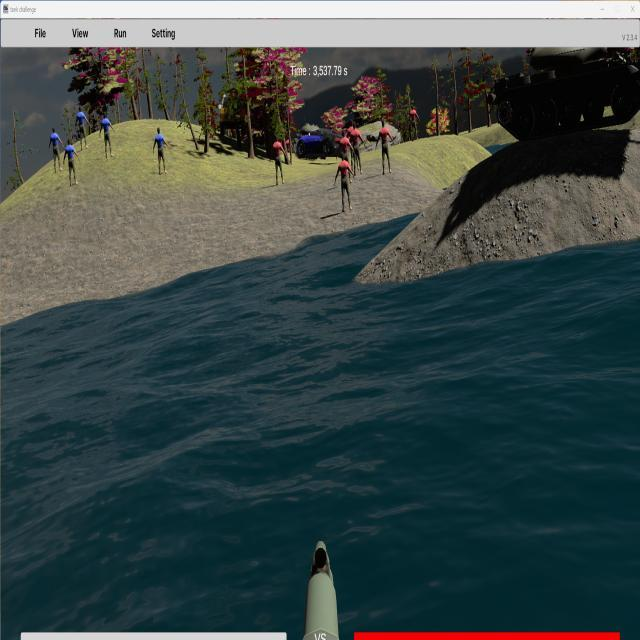Human: (335, 150, 355, 212), (375, 119, 395, 175), (347, 121, 366, 177), (269, 133, 287, 185), (63, 136, 80, 187), (338, 127, 355, 175), (99, 110, 115, 159), (153, 126, 169, 175), (49, 126, 65, 172), (75, 105, 90, 151), (407, 103, 420, 142)
Tank: (494, 45, 640, 142)
car: (295, 127, 348, 160)
